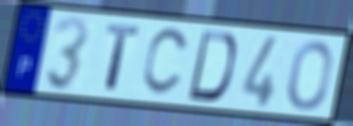3: (44, 14, 95, 93)
4: (239, 33, 281, 111)
C: (140, 27, 192, 99)
D: (185, 28, 239, 104)
O: (286, 39, 335, 113)
T: (103, 22, 143, 93)
